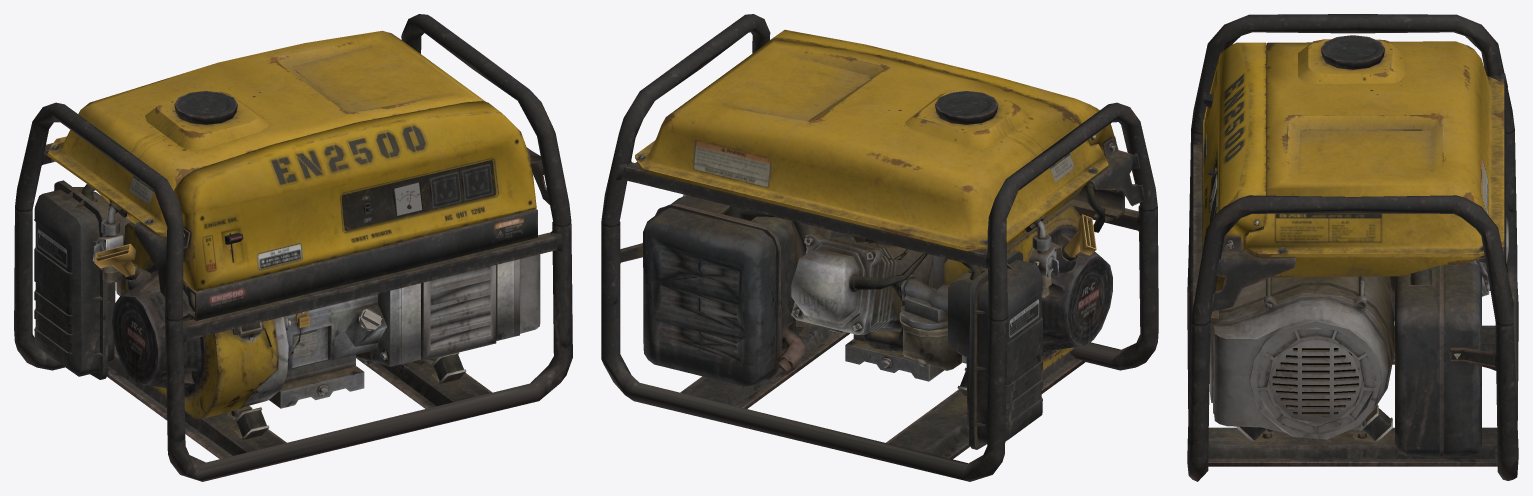
The model's file is portable_generator.glb.
3 renders of one model, left to right at view 1: azimuth 30°, elevation 25°; view 2: azimuth 150°, elevation 25°; view 3: azimuth 270°, elevation 25°, orthographic.
Parts seen in each view (by area): view 1: portable_generator; view 2: portable_generator; view 3: portable_generator.
Boxes of the visible parts, x1=… form: portable_generator: x1=14, y1=14, x2=572, y2=481; portable_generator: x1=601, y1=14, x2=1158, y2=481; portable_generator: x1=1187, y1=14, x2=1518, y2=481.
Size of the model in its own units: 0.8166 by 0.5753 by 0.564.
Materials: 2 (2 with a texture image).
